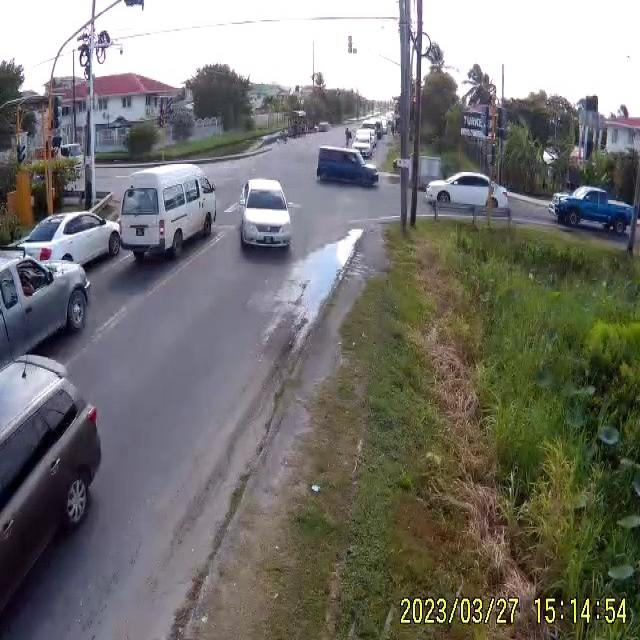car: (1, 251, 92, 373), (118, 166, 216, 261), (7, 211, 121, 268), (424, 172, 511, 217), (240, 177, 294, 248), (554, 189, 634, 233), (316, 147, 377, 188), (353, 128, 377, 157)
